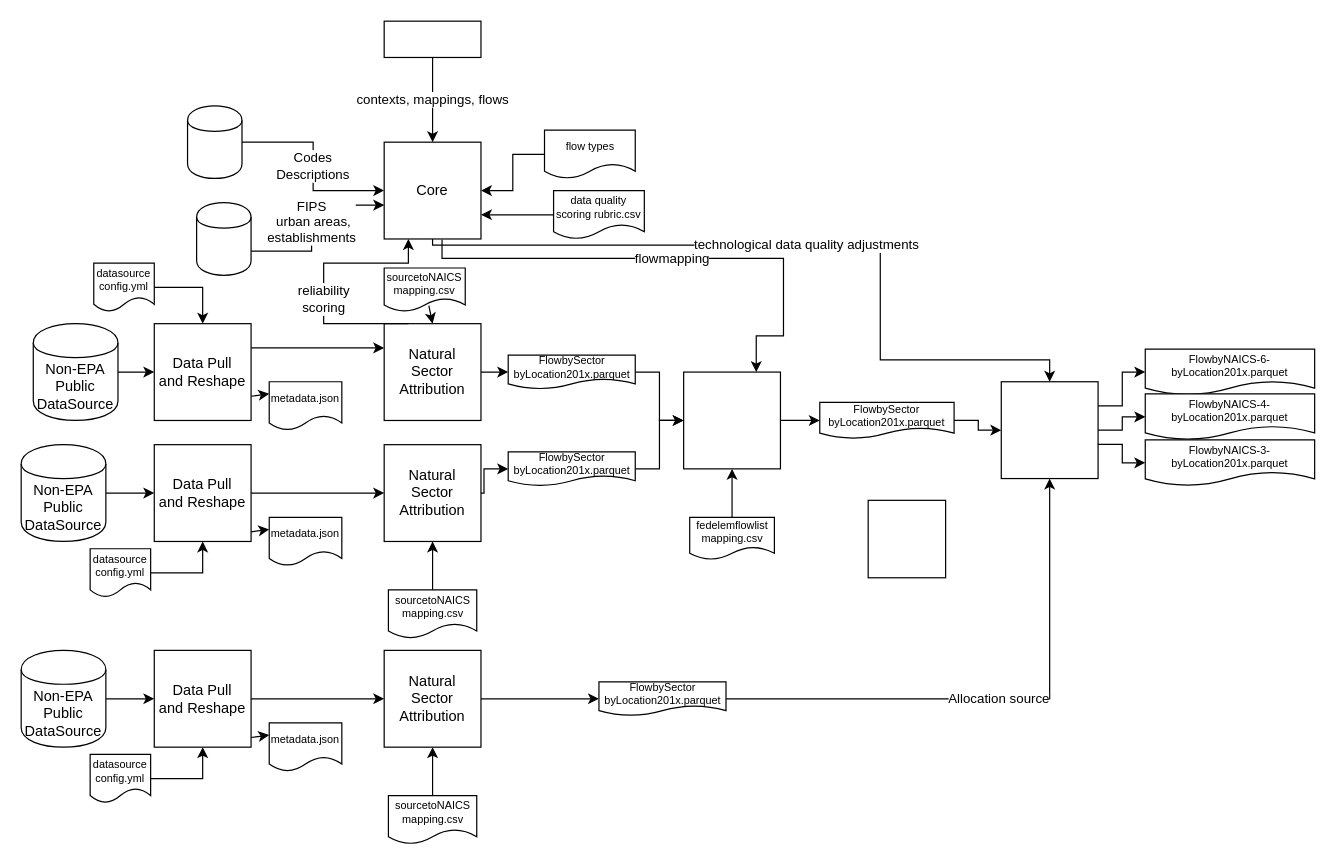
The diagram is 1336 pixels wide and 865 high, and some of its shapes have lost their labels. The shapes that lost their labels are listed below. From the top down, each one's centre as x and y in pixels, then its label:
At pixel 432 38: "fedelemflowlist".
At pixel 214 141: "NAICS".
At pixel 223 238: "Census".
At pixel 731 420: "Source Aggregation".
At pixel 1049 430: "Allocation to NAICS levels".
At pixel 906 538: "Source Combo".
